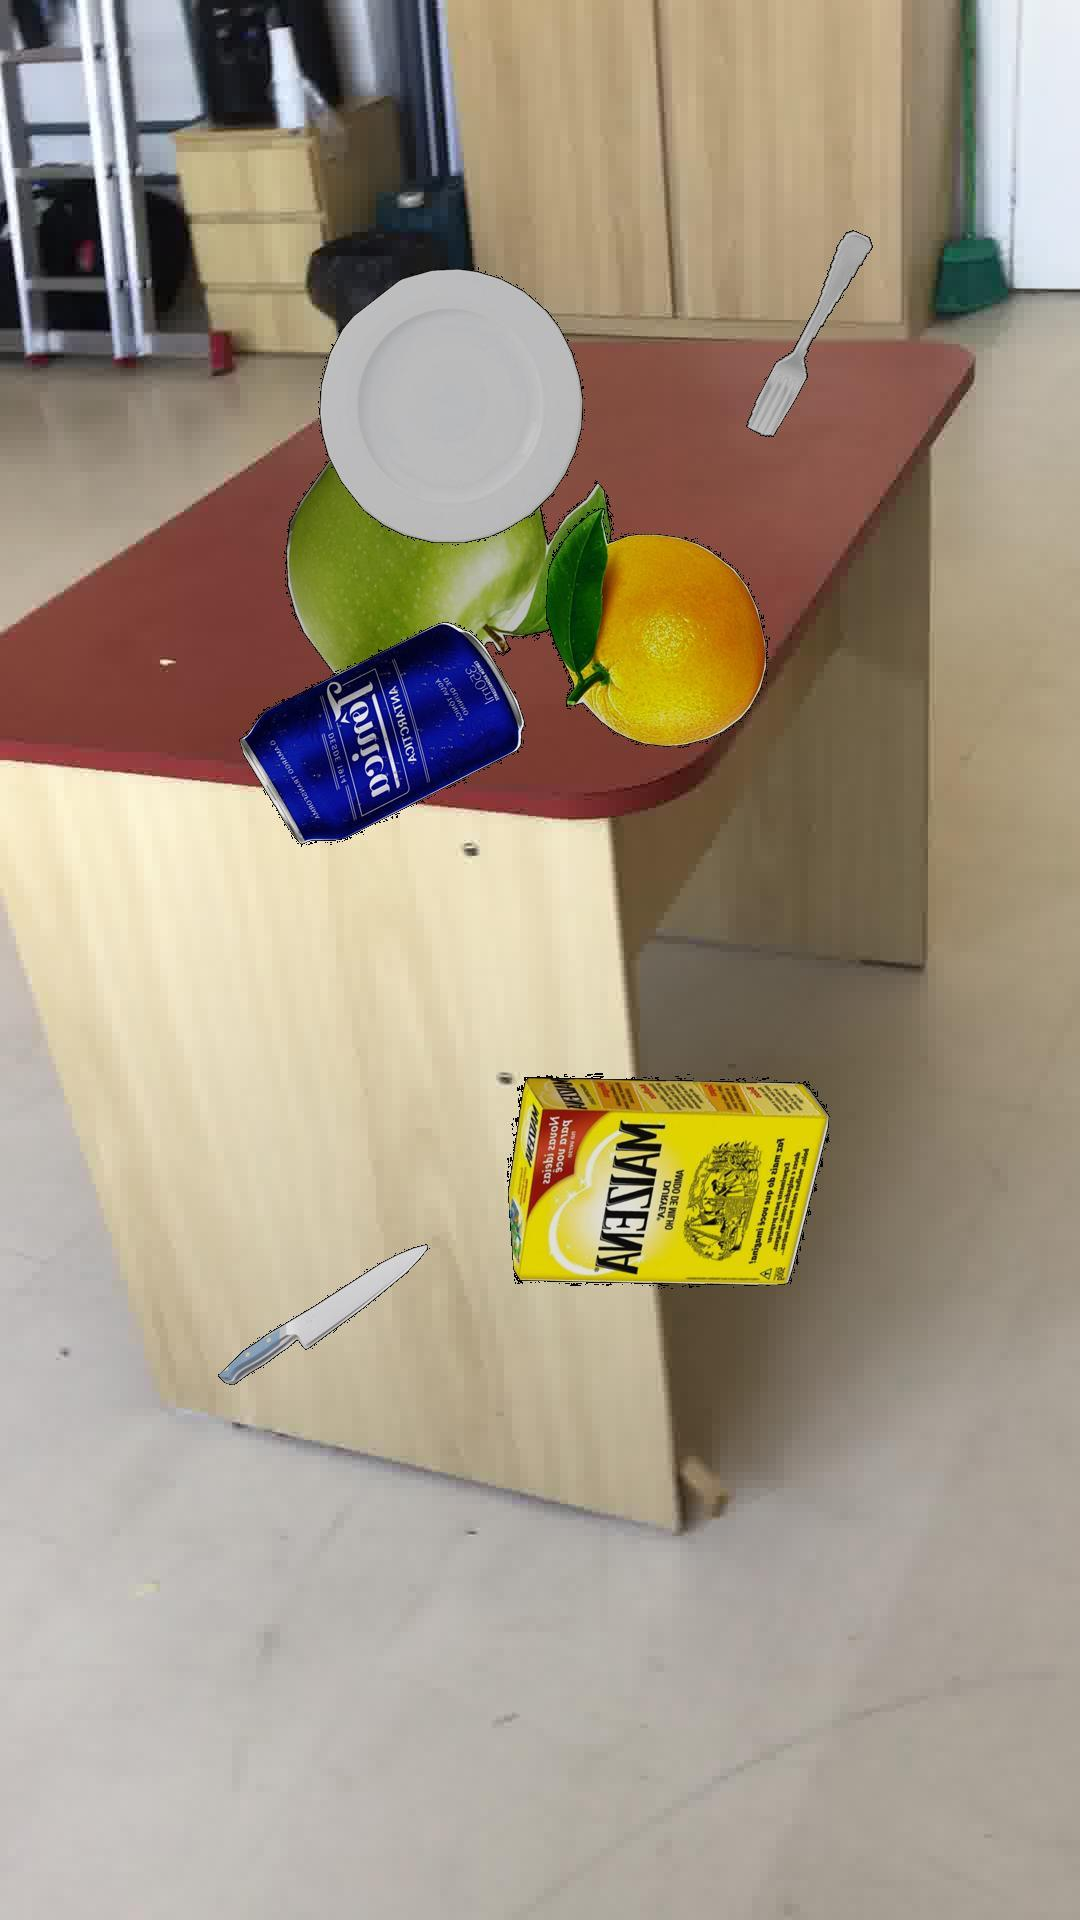fork: (745, 228, 872, 435)
green apple: (282, 459, 612, 673)
knife: (216, 1242, 426, 1383)
orange: (543, 506, 767, 745)
plate: (318, 268, 583, 542)
tonic: (237, 621, 524, 845)
